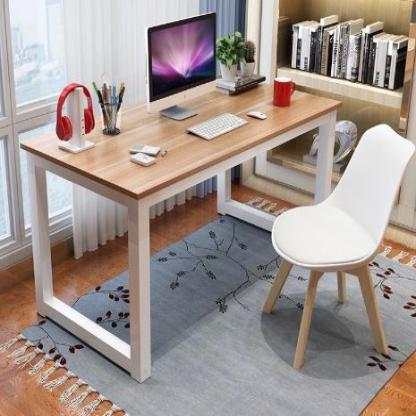table: (13, 61, 346, 387)
